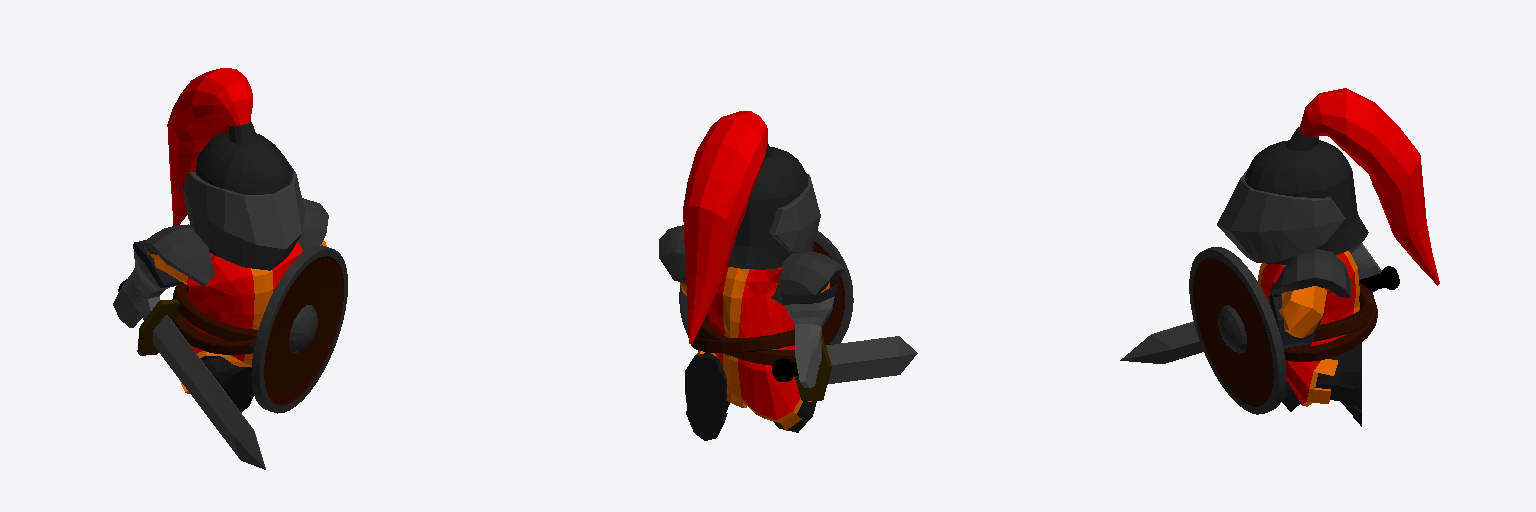
File: RedTeam_SwordsMen_Unit.obj
The picture shows the model from 3 angles: view 1: azimuth 30°, elevation 25°; view 2: azimuth 150°, elevation 25°; view 3: azimuth 270°, elevation 25°; orthographic projection.
Visible parts, largest first — view 1: RedTeam_SwordsMen_Helmet_Cylinder.007, Shield01_Cylinder, RedTeam_SwordsMen_Armor_Cube.001, OneHand_Sword_Iron_Cylinder.001, RedTeam_SwordsMen_Belt_Cylinder.002, RedTeam_SwordsMen_Shoulders.R_Cylinder.010, RedTeam_SwordsMen_Shoulders.L_Cylinder.003; view 2: RedTeam_SwordsMen_Helmet_Cylinder.007, RedTeam_SwordsMen_Armor_Cube.001, OneHand_Sword_Iron_Cylinder.001, RedTeam_SwordsMen_Belt_Cylinder.002, RedTeam_SwordsMen_Shoulders.R_Cylinder.010, Shield01_Cylinder, RedTeam_SwordsMen_Shoulders.L_Cylinder.003; view 3: RedTeam_SwordsMen_Helmet_Cylinder.007, Shield01_Cylinder, RedTeam_SwordsMen_Armor_Cube.001, RedTeam_SwordsMen_Belt_Cylinder.002, OneHand_Sword_Iron_Cylinder.001, RedTeam_SwordsMen_Shoulders.L_Cylinder.003.
Boxes of the visible parts, x1,y1,x2,y2 form: RedTeam_SwordsMen_Helmet_Cylinder.007: [167, 68, 304, 270]; Shield01_Cylinder: [251, 245, 347, 413]; RedTeam_SwordsMen_Armor_Cube.001: [113, 240, 326, 412]; OneHand_Sword_Iron_Cylinder.001: [118, 279, 265, 469]; RedTeam_SwordsMen_Belt_Cylinder.002: [173, 284, 257, 354]; RedTeam_SwordsMen_Shoulders.R_Cylinder.010: [143, 224, 214, 285]; RedTeam_SwordsMen_Shoulders.L_Cylinder.003: [298, 198, 328, 254]; RedTeam_SwordsMen_Helmet_Cylinder.007: [683, 111, 820, 344]; RedTeam_SwordsMen_Armor_Cube.001: [680, 267, 838, 440]; OneHand_Sword_Iron_Cylinder.001: [772, 335, 917, 400]; RedTeam_SwordsMen_Belt_Cylinder.002: [691, 314, 795, 365]; RedTeam_SwordsMen_Shoulders.R_Cylinder.010: [771, 251, 843, 305]; Shield01_Cylinder: [679, 230, 853, 351]; RedTeam_SwordsMen_Shoulders.L_Cylinder.003: [659, 225, 685, 282]; RedTeam_SwordsMen_Helmet_Cylinder.007: [1217, 88, 1439, 285]; Shield01_Cylinder: [1189, 247, 1285, 414]; RedTeam_SwordsMen_Armor_Cube.001: [1258, 243, 1381, 426]; RedTeam_SwordsMen_Belt_Cylinder.002: [1284, 283, 1377, 361]; OneHand_Sword_Iron_Cylinder.001: [1120, 266, 1399, 363]; RedTeam_SwordsMen_Shoulders.L_Cylinder.003: [1269, 249, 1350, 297].
Bounding box in the file's own units: 1.15 × 2.01 × 1.77.